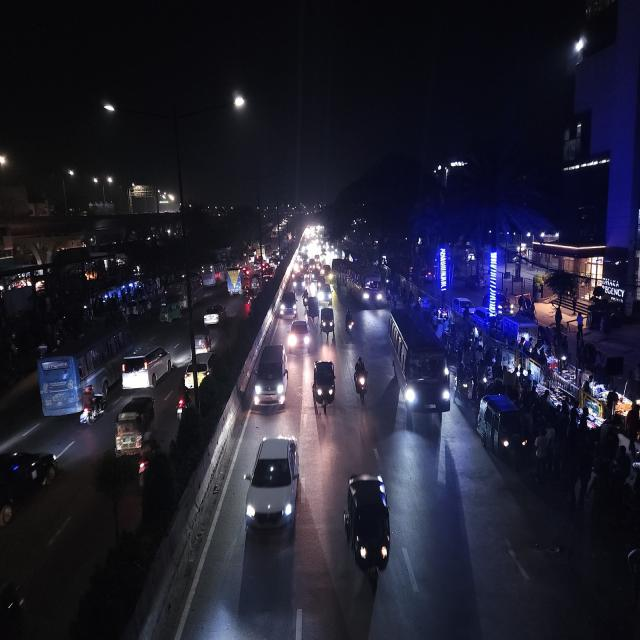bus: (36, 318, 130, 420), (386, 307, 452, 425), (346, 263, 384, 310), (199, 258, 224, 288), (225, 266, 243, 298)
car: (242, 430, 302, 539), (0, 444, 60, 545), (252, 339, 290, 412), (121, 342, 173, 391), (183, 351, 213, 392), (288, 316, 312, 356), (191, 324, 214, 356), (276, 288, 298, 320), (203, 302, 228, 329), (289, 270, 305, 292), (269, 256, 280, 270)
cng: (342, 468, 393, 588), (112, 394, 156, 460), (311, 356, 337, 417), (160, 297, 184, 325), (320, 304, 336, 342), (305, 294, 319, 321)
motorcycle: (78, 385, 108, 428), (352, 354, 370, 406), (174, 382, 192, 424), (344, 307, 355, 340)
truck: (225, 268, 243, 297)
